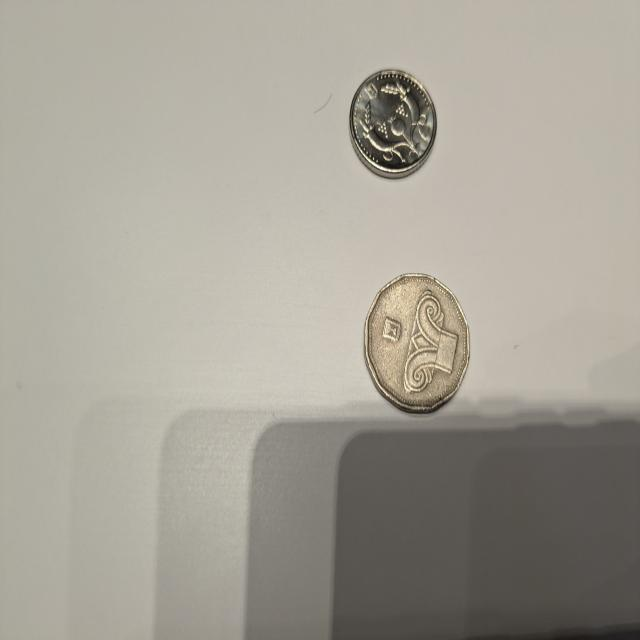2-shekel: (352, 68, 442, 181)
5-shekel: (366, 273, 471, 417)
